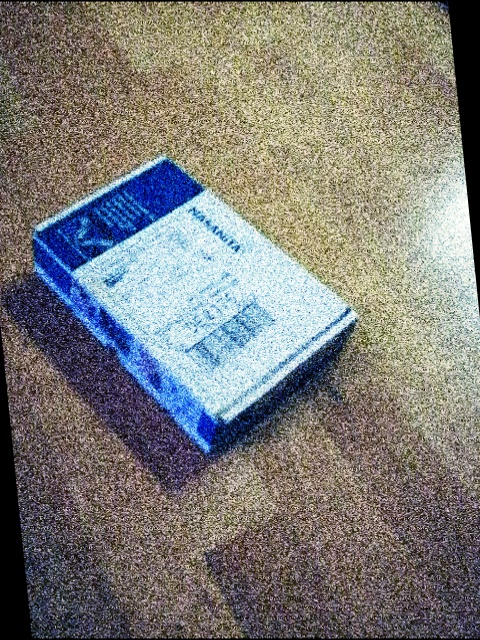good-parcel: (19, 153, 376, 472)
